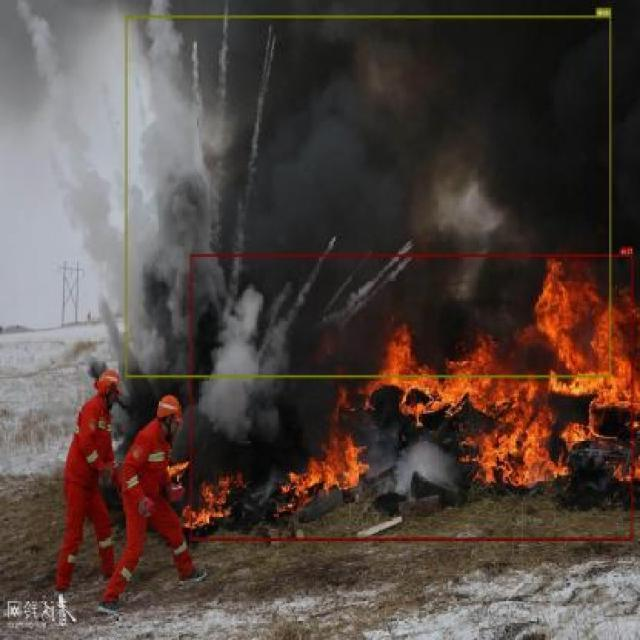Fire: (190, 254, 633, 540)
Smoke: (126, 15, 612, 377)
